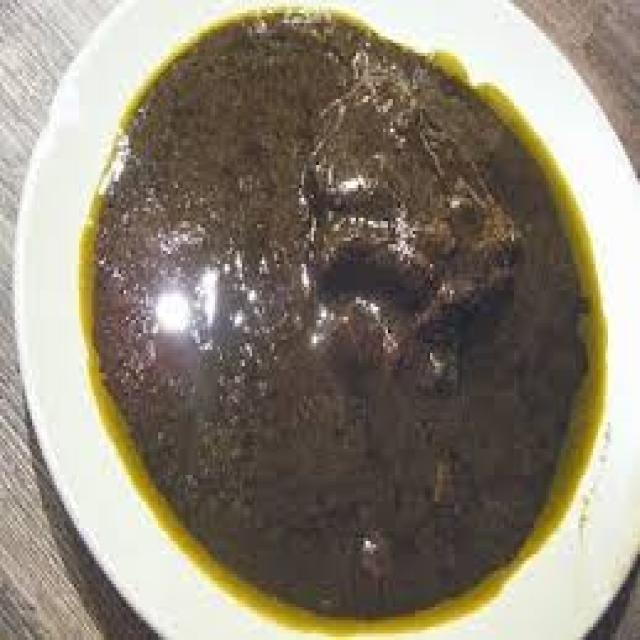Melloukhia: (91, 4, 618, 630)
